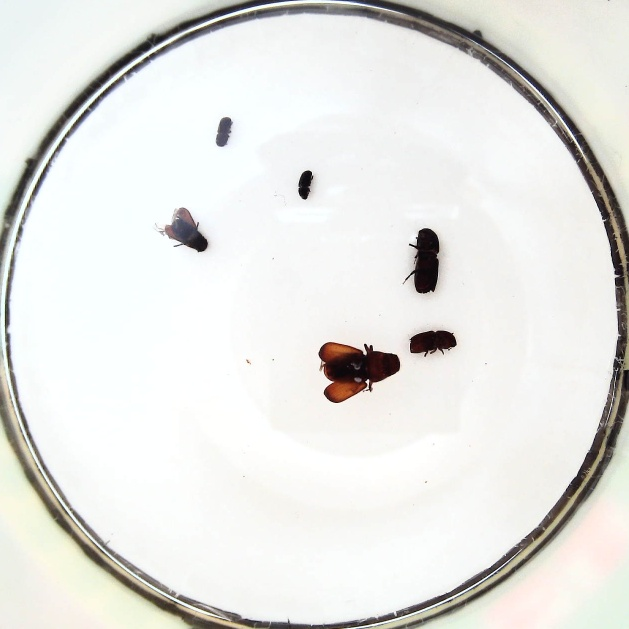acuminatus: (214, 115, 234, 148)
boerner: (401, 227, 441, 294)
coleoptera: (297, 169, 314, 200)
leconte: (317, 339, 401, 403), (155, 207, 208, 252)
linnaeus: (408, 328, 458, 356)
